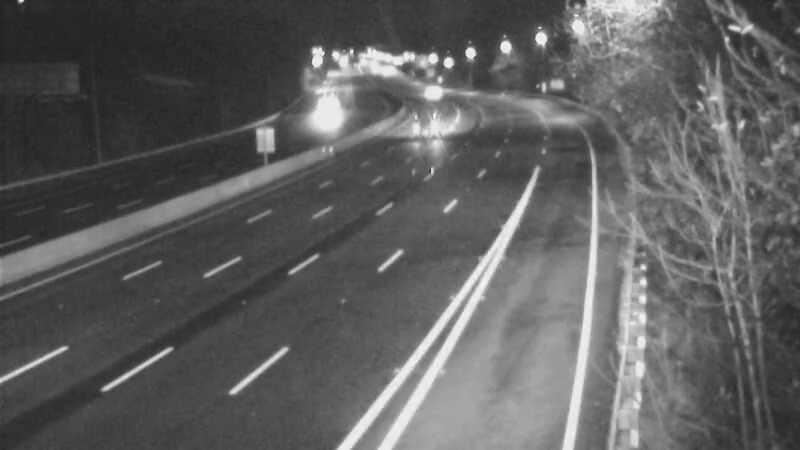vehicle: (402, 68, 452, 118), (405, 99, 455, 149), (295, 92, 345, 142)
